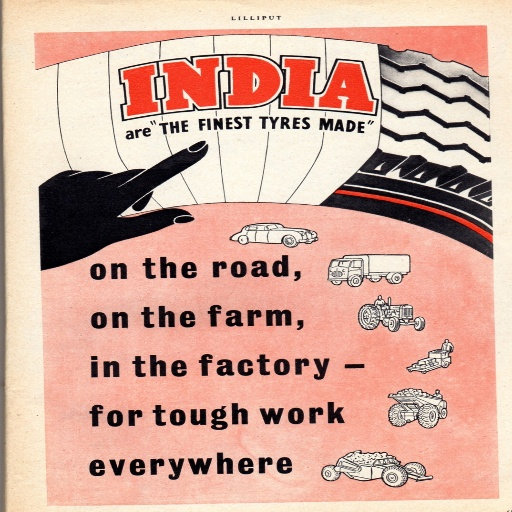hand: (36, 136, 210, 267)
